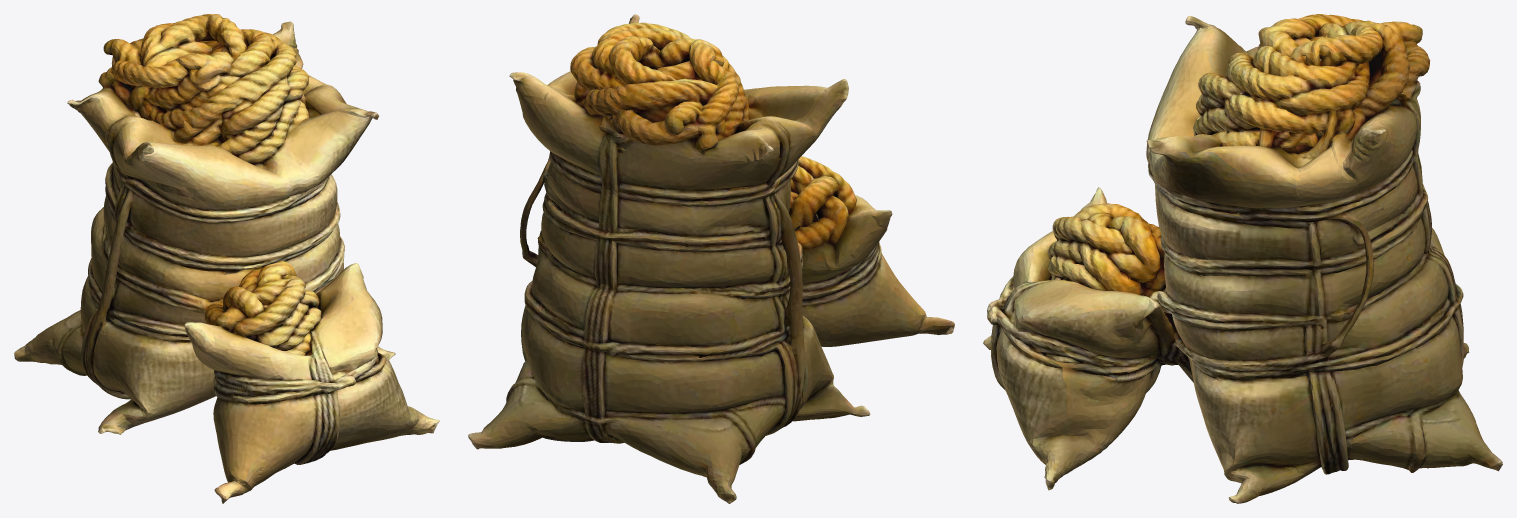
File: prop_grain_sack_stack_01.glb
The picture shows the model from 3 angles, left to right: view 1: azimuth 30°, elevation 25°; view 2: azimuth 150°, elevation 25°; view 3: azimuth 270°, elevation 25°; orthographic projection. The views are drawn at different scales.
Parts seen in each view (by area): view 1: geometry_0; view 2: geometry_0; view 3: geometry_0.
Part boxes in pixels (box(x1,y1,x2,y2)): geometry_0: box(14, 14, 439, 503); geometry_0: box(468, 14, 954, 503); geometry_0: box(983, 14, 1502, 503).
Size of the model in its own units: 0.7858 by 0.8677 by 1.
Materials: 1 (1 with a texture image).
